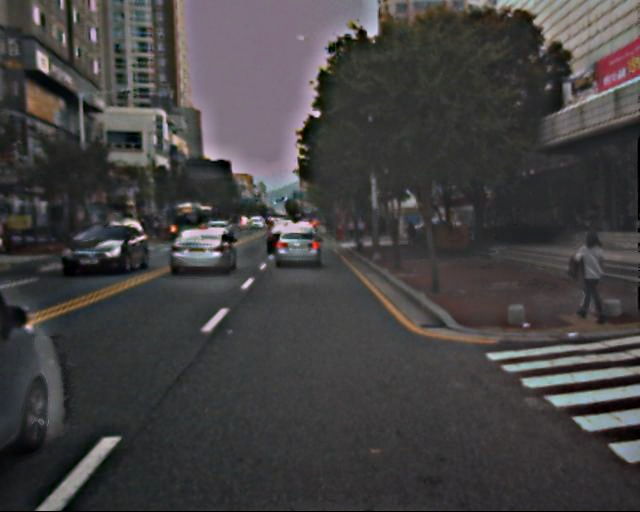person: (567, 226, 610, 324)
